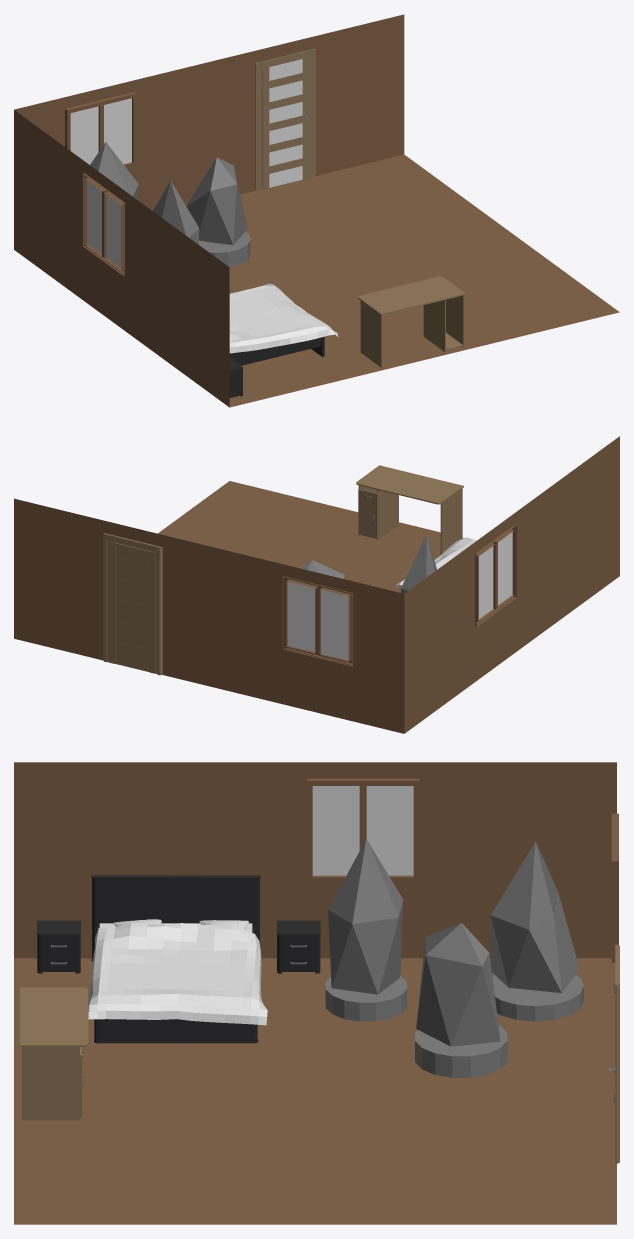
The model's file is room_2.fbx.
3 renders of one model, top to bottom at view 1: azimuth 30°, elevation 25°; view 2: azimuth 150°, elevation 25°; view 3: azimuth 270°, elevation 25°, orthographic. The views are drawn at different scales.
Visible parts, largest first — view 1: Plane.002, Plane.007, Plane.021, Plane.006, Cylinder.007, Cube.002, Cube.001, Cylinder.003, Cylinder.001, Cube.008; view 2: Plane.002, Plane.007, Plane.021, Cube.002, Cube.001, Cylinder.003, Plane.006; view 3: Plane.002, Plane.006, Cube.008, Cylinder.001, Cylinder.007, Cylinder.003, Cube.001, Plane.021, Plane.001, Plane.004, Cube.002, Plane.007.
Boxes of the visible parts, box(x1,y1,x2,y2) form: Plane.002: box(14, 14, 619, 407); Plane.007: box(255, 48, 315, 191); Plane.021: box(358, 276, 465, 367); Plane.006: box(229, 283, 338, 353); Cylinder.007: box(186, 157, 250, 267); Cube.002: box(65, 92, 136, 168); Cube.001: box(83, 173, 124, 275); Cylinder.003: box(153, 181, 199, 244); Cylinder.001: box(90, 142, 138, 199); Cube.008: box(229, 336, 324, 365); Plane.002: box(14, 436, 619, 733); Plane.007: box(103, 533, 162, 675); Plane.021: box(356, 465, 463, 554); Cube.002: box(282, 576, 353, 666); Cube.001: box(475, 524, 516, 626); Cylinder.003: box(400, 534, 436, 593); Plane.006: box(393, 537, 476, 589); Plane.002: box(14, 762, 616, 1224); Plane.006: box(88, 922, 267, 1025); Cube.008: box(91, 875, 260, 1043); Cylinder.001: box(490, 842, 583, 1021); Cylinder.007: box(415, 923, 507, 1077); Cylinder.003: box(325, 839, 407, 1021); Cube.001: box(307, 778, 419, 882); Plane.021: box(20, 987, 88, 1120); Plane.001: box(37, 920, 80, 973); Plane.004: box(277, 920, 320, 973); Cube.002: box(611, 813, 618, 962); Plane.007: box(609, 944, 619, 1163).
Bounding box in the file's own units: 674 × 234 × 645.
